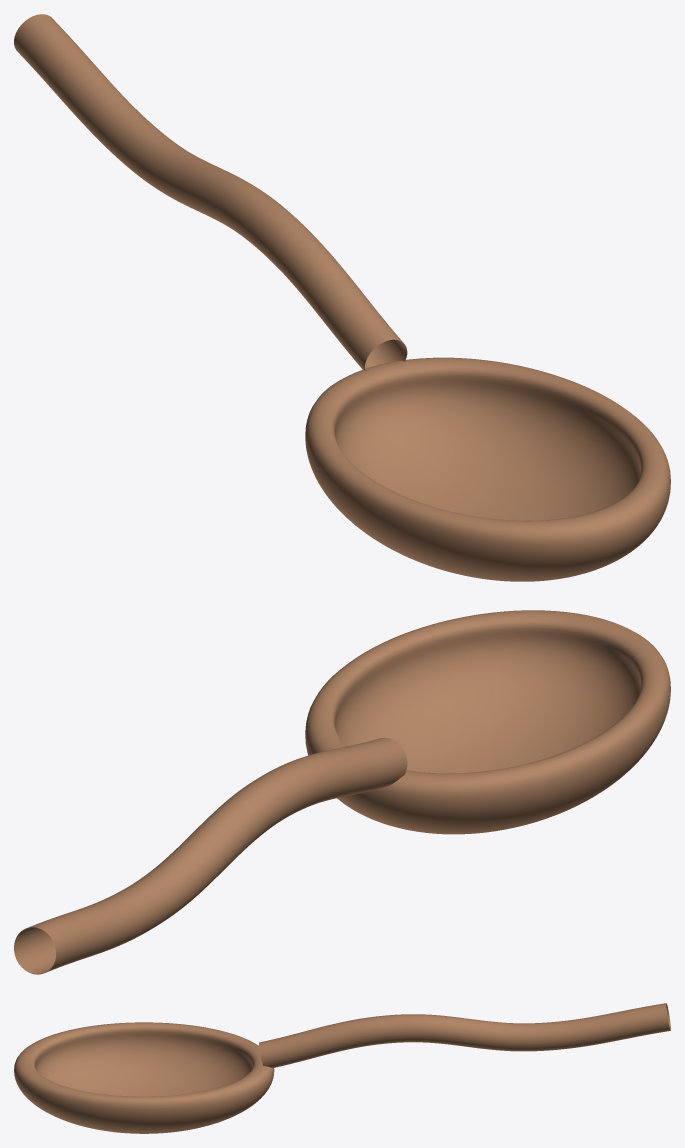
Rendered from cuchara.glb.
3 views of the same model, one above another, from view 1: azimuth 30°, elevation 25°; view 2: azimuth 150°, elevation 25°; view 3: azimuth 270°, elevation 25° (orthographic). The views are drawn at different scales.
Parts seen in each view (by area): view 1: cazo_cerezo, mango_cerezo; view 2: cazo_cerezo, mango_cerezo; view 3: cazo_cerezo, mango_cerezo.
Boxes of the visible parts, x1,y1,x2,y2 form: cazo_cerezo: [305, 357, 670, 581]; mango_cerezo: [14, 14, 407, 370]; cazo_cerezo: [305, 610, 670, 834]; mango_cerezo: [14, 737, 407, 974]; cazo_cerezo: [14, 1022, 274, 1133]; mango_cerezo: [259, 1003, 670, 1067].
Size of the model in its own units: 0.1471 by 0.0967 by 0.5011.
